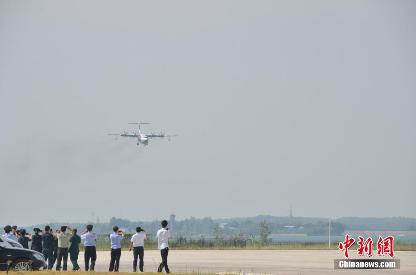AG600: (108, 121, 176, 144)
